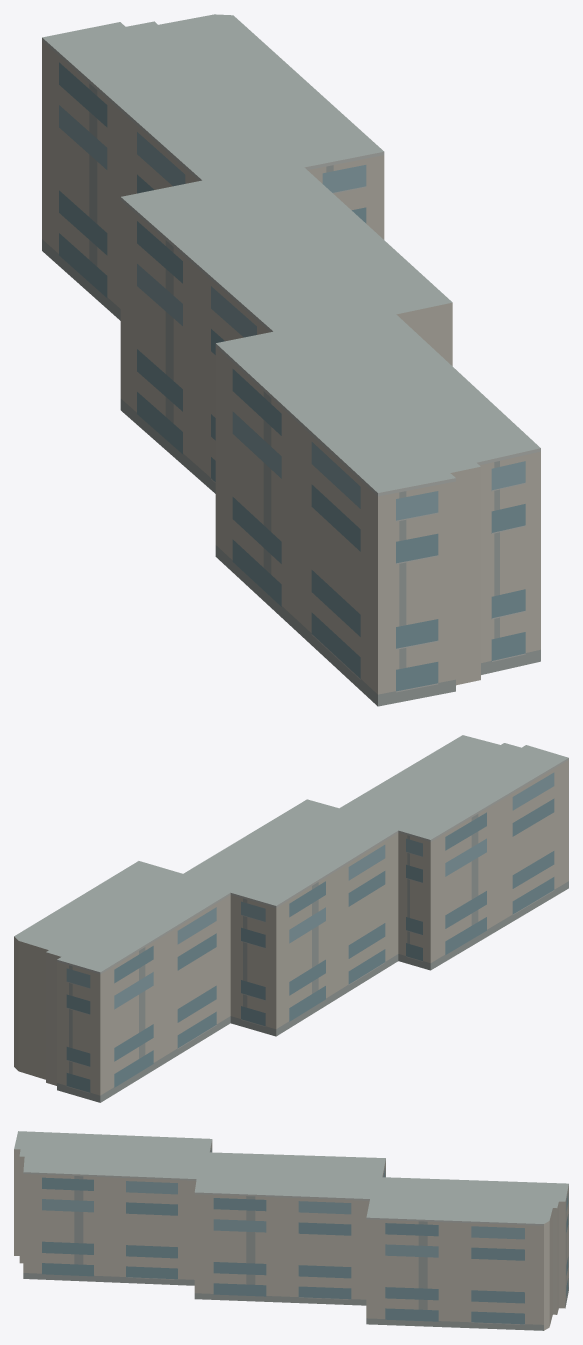
File: survey-upis-32743763.glb
3 views of the same model, one above another, from view 1: azimuth 30°, elevation 25°; view 2: azimuth 150°, elevation 25°; view 3: azimuth 270°, elevation 25° (orthographic). The views are drawn at different scales.
Visible parts, largest first — view 1: survey-upis-32743763.tmp; view 2: survey-upis-32743763.tmp; view 3: survey-upis-32743763.tmp.
Part boxes in pixels (bbox=[...]): survey-upis-32743763.tmp: bbox=[42, 14, 540, 706]; survey-upis-32743763.tmp: bbox=[14, 735, 568, 1102]; survey-upis-32743763.tmp: bbox=[14, 1131, 568, 1330].
Bounding box in the file's own units: 28.52 × 15.25 × 71.89.
